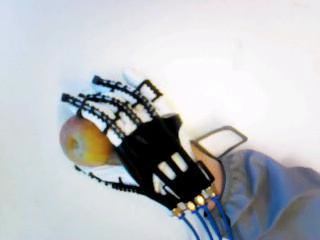apple: (59, 114, 117, 167)
hand: (58, 75, 215, 219)
